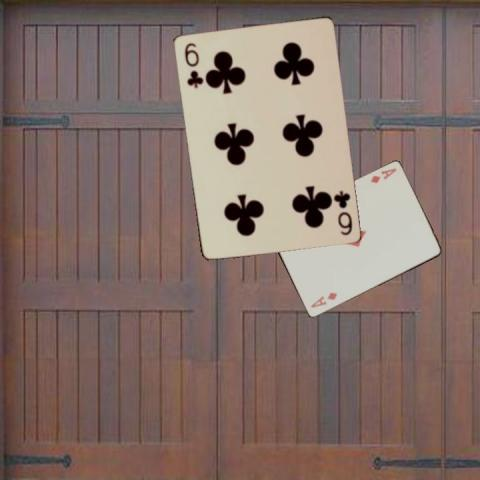6c: (330, 186, 353, 236), (182, 39, 204, 90)
Ad: (307, 289, 339, 310), (367, 165, 398, 185)
